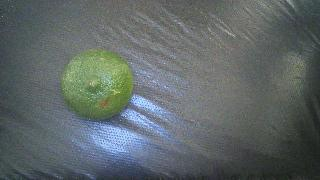DESECHO: (61, 50, 133, 119)
